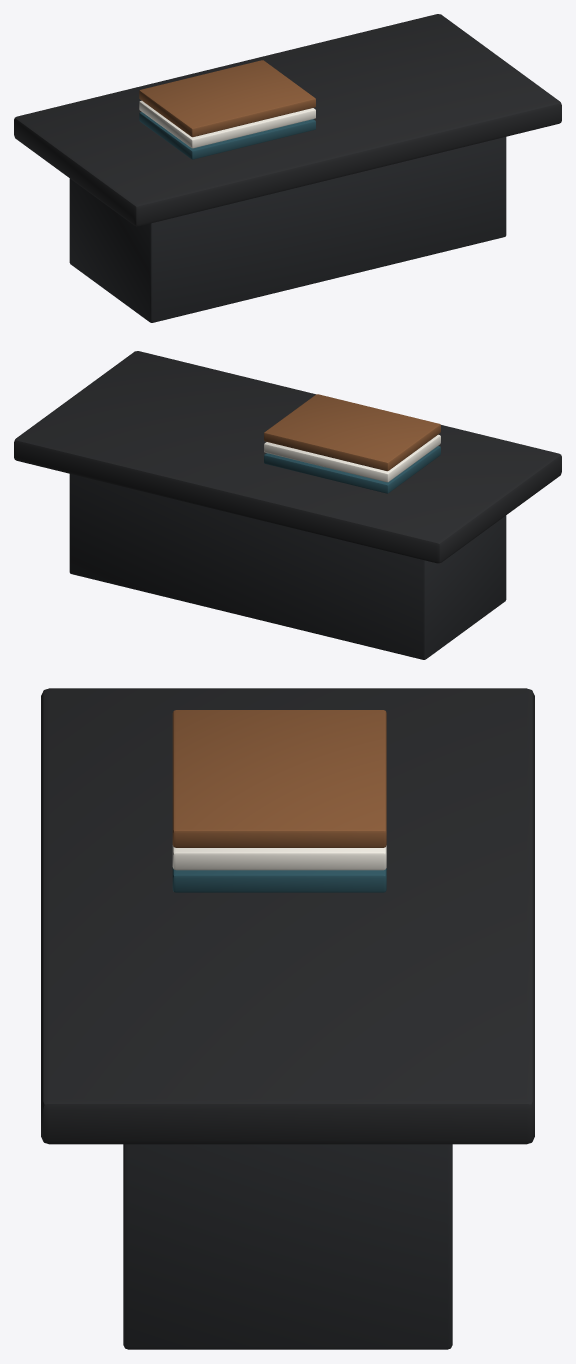
File: vantage_coffee_table.glb
3 renders of one model, top to bottom at view 1: azimuth 30°, elevation 25°; view 2: azimuth 150°, elevation 25°; view 3: azimuth 270°, elevation 25°, orthographic. The views are drawn at different scales.
Visible parts, largest first — view 1: vantage_coffee_table; view 2: vantage_coffee_table; view 3: vantage_coffee_table.
Part boxes in pixels (left/top/right/bottom): vantage_coffee_table: left=14, top=14, right=561, bottom=322; vantage_coffee_table: left=14, top=351, right=561, bottom=659; vantage_coffee_table: left=41, top=688, right=534, bottom=1349.
Bounding box in the file's own units: 1.2 × 0.465 × 0.6.
